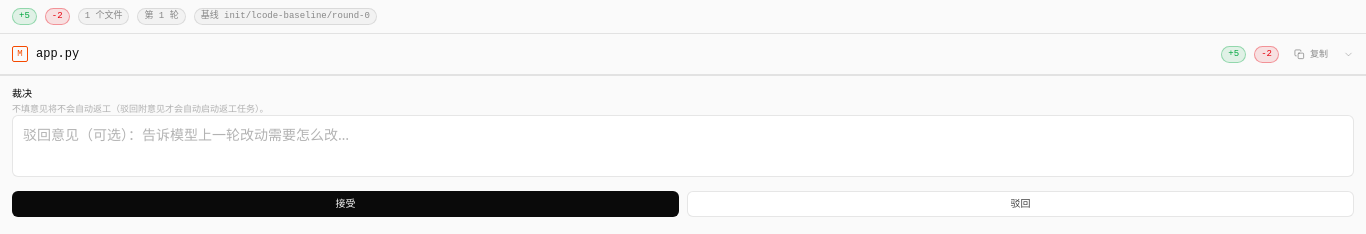
Scenario: DiffReviewPanel · 文件行交互（行内展开 + 复制路径） › 复制路径：写入剪贴板并反馈「已复制」，不触发行展开
The image size is (1366, 234).
Click the button with test id "diff-file-copy" at (1311, 54), box [1287,42,1335,66]
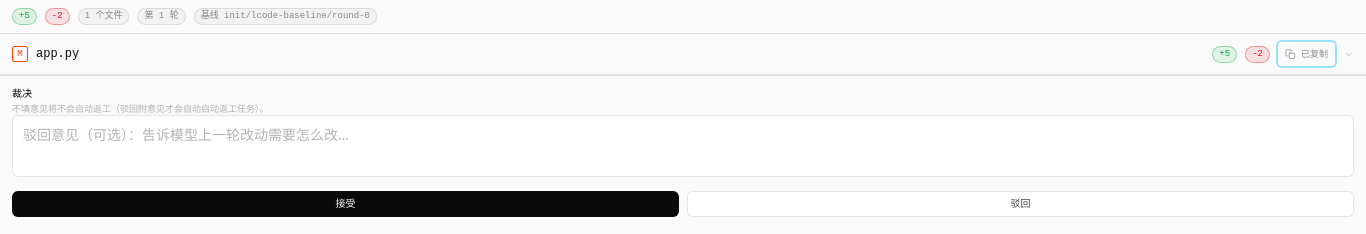
Expected: the button with test id "diff-file-copy" reads "已复制", [1278,42,1335,66]
